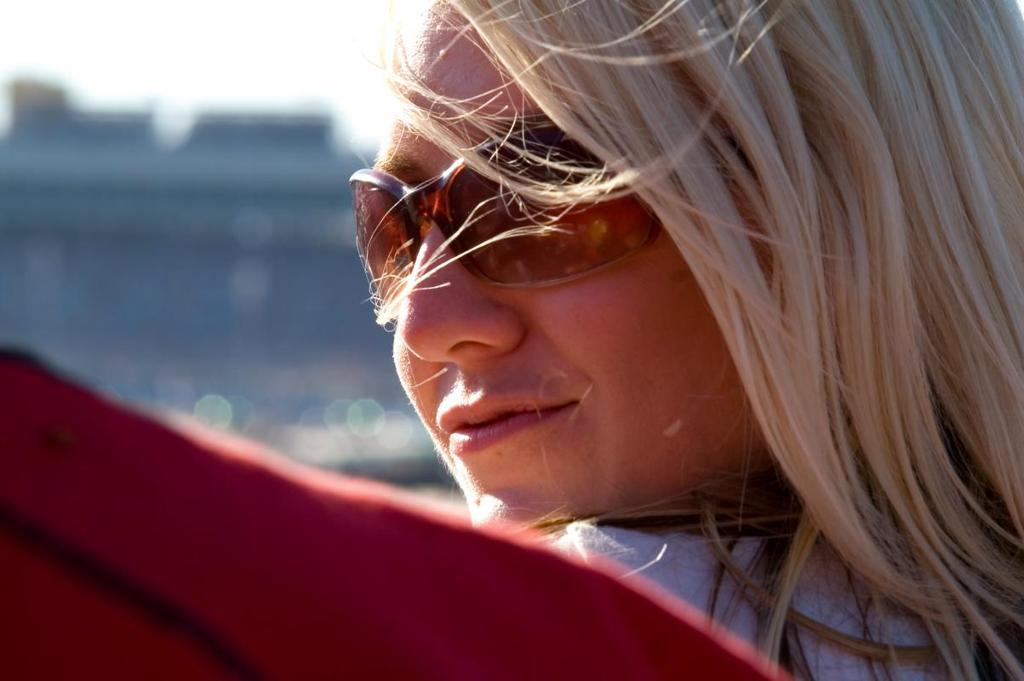face: (369, 7, 791, 531)
